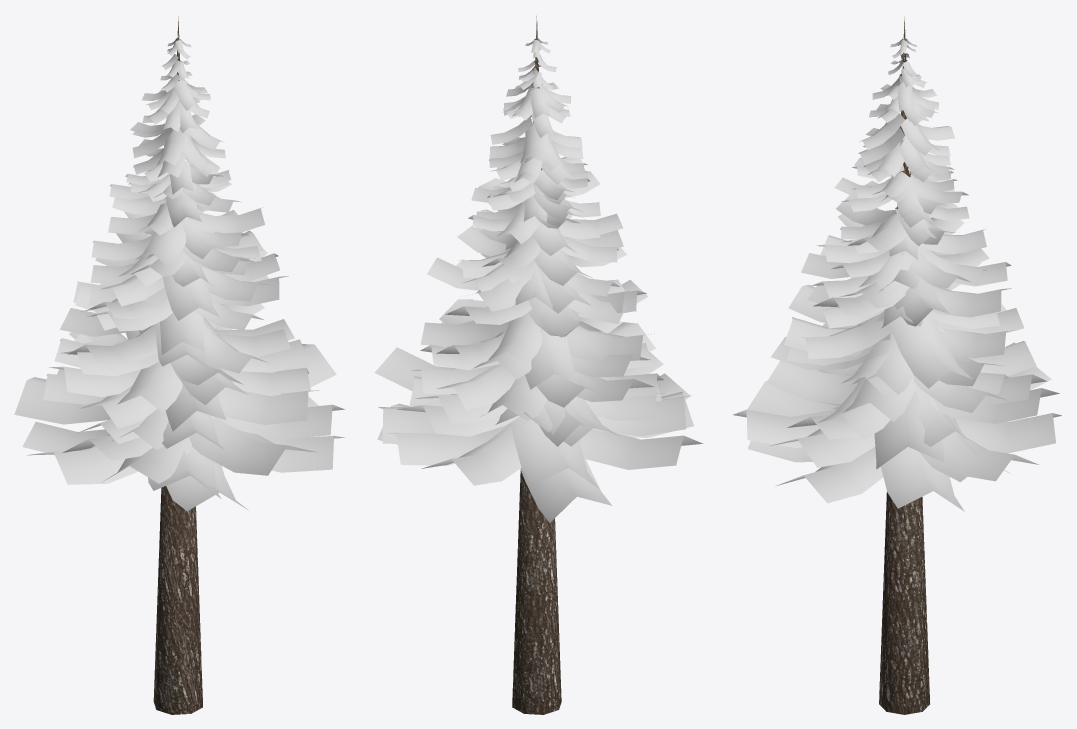
Rendered from SnowyMountainsPineTree2.fbx.
3 renders of one model, left to right at view 1: azimuth 30°, elevation 25°; view 2: azimuth 150°, elevation 25°; view 3: azimuth 270°, elevation 25°, orthographic.
Visible parts, largest first — view 1: Cylinder.432; view 2: Cylinder.432; view 3: Cylinder.432.
Part boxes in pixels (bbox=[...]): Cylinder.432: bbox=[14, 16, 344, 714]; Cylinder.432: bbox=[374, 16, 703, 714]; Cylinder.432: bbox=[733, 16, 1061, 714].
Bounding box in the file's own units: 9.88 × 22.45 × 9.74.
